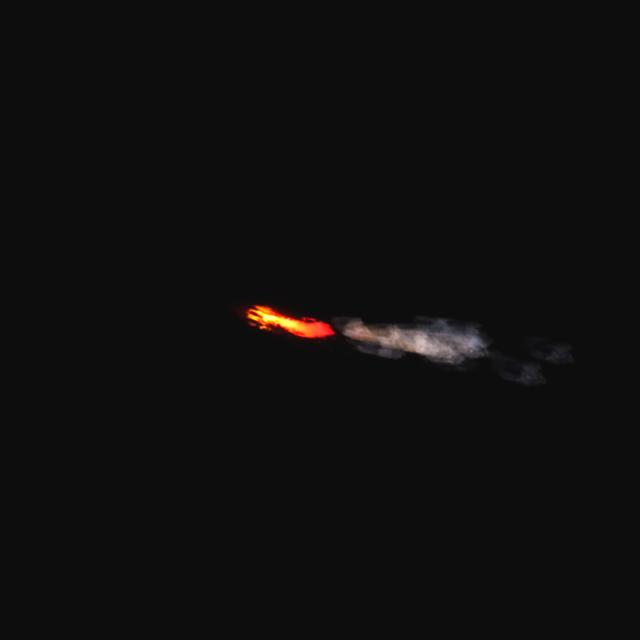fire: (242, 297, 338, 355)
smoke: (334, 287, 495, 391)
